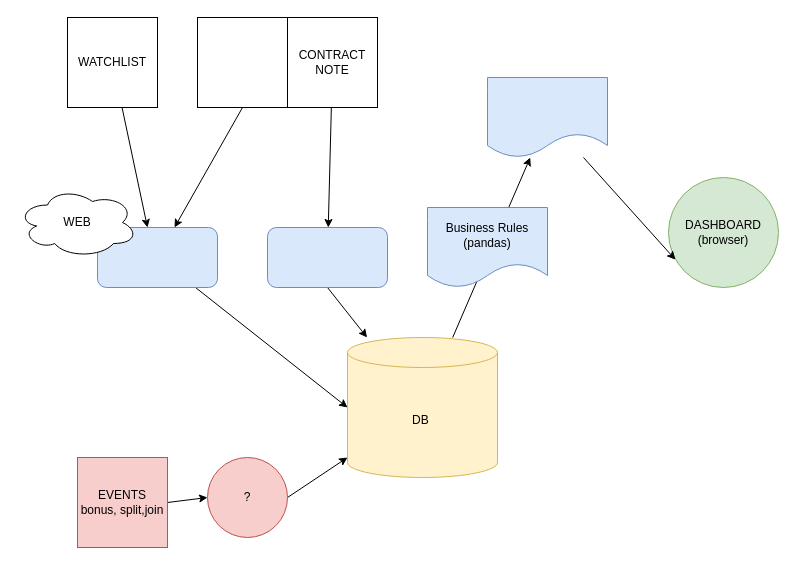
This 796x565 diagram has some shape labels left out. Each missing label, with the centre of its shape:
"CN PARSER" belongs at pixel 327 257.
"PF/WL REFRESH" belongs at pixel 157 257.
"PORTFOLIO DEFINITION" belongs at pixel 242 62.
"Presentation Logic (streamlit)" belongs at pixel 547 117.
